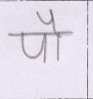au_matra: (48, 10, 64, 60)
